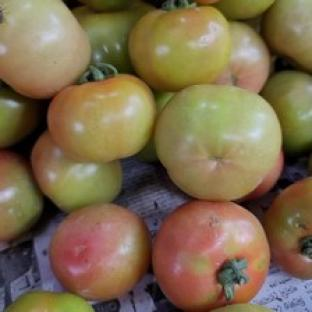Tomato: (155, 84, 281, 200), (152, 201, 270, 311), (49, 204, 151, 300), (48, 74, 155, 161), (129, 2, 231, 91), (31, 131, 122, 213), (73, 2, 154, 72), (264, 177, 311, 278), (261, 70, 311, 157), (215, 21, 271, 93), (0, 150, 43, 242), (0, 85, 44, 149), (240, 151, 285, 201), (5, 290, 94, 311), (137, 133, 158, 162), (211, 303, 272, 311), (308, 152, 311, 175)
